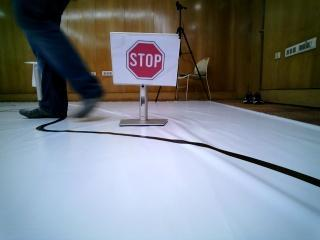stop: (109, 34, 169, 83)
